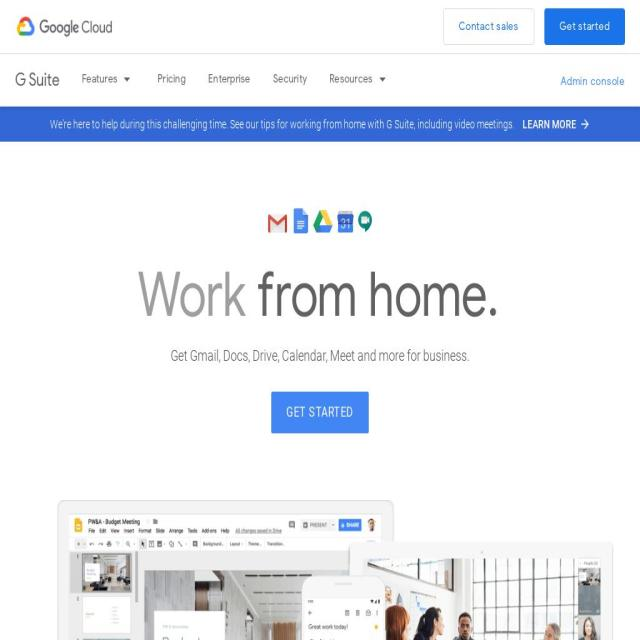button: (0, 106, 640, 142), (271, 392, 369, 434), (444, 8, 534, 45), (329, 53, 390, 107), (544, 8, 625, 45), (82, 53, 135, 107)
heading: (137, 257, 246, 334), (317, 257, 358, 334), (421, 257, 462, 334), (290, 257, 317, 334), (394, 257, 421, 334), (368, 257, 394, 334), (462, 257, 488, 334), (256, 257, 274, 334), (274, 257, 290, 334), (488, 257, 500, 334)
image: (19, 500, 621, 640), (268, 208, 372, 234), (17, 16, 112, 38), (119, 69, 135, 89), (374, 69, 390, 89)
link: (208, 59, 251, 99), (273, 59, 307, 99), (157, 59, 185, 99), (561, 74, 625, 88)
text: (170, 345, 470, 367), (49, 117, 514, 131), (522, 115, 590, 133), (15, 68, 59, 91), (330, 72, 372, 86), (82, 72, 117, 86)
